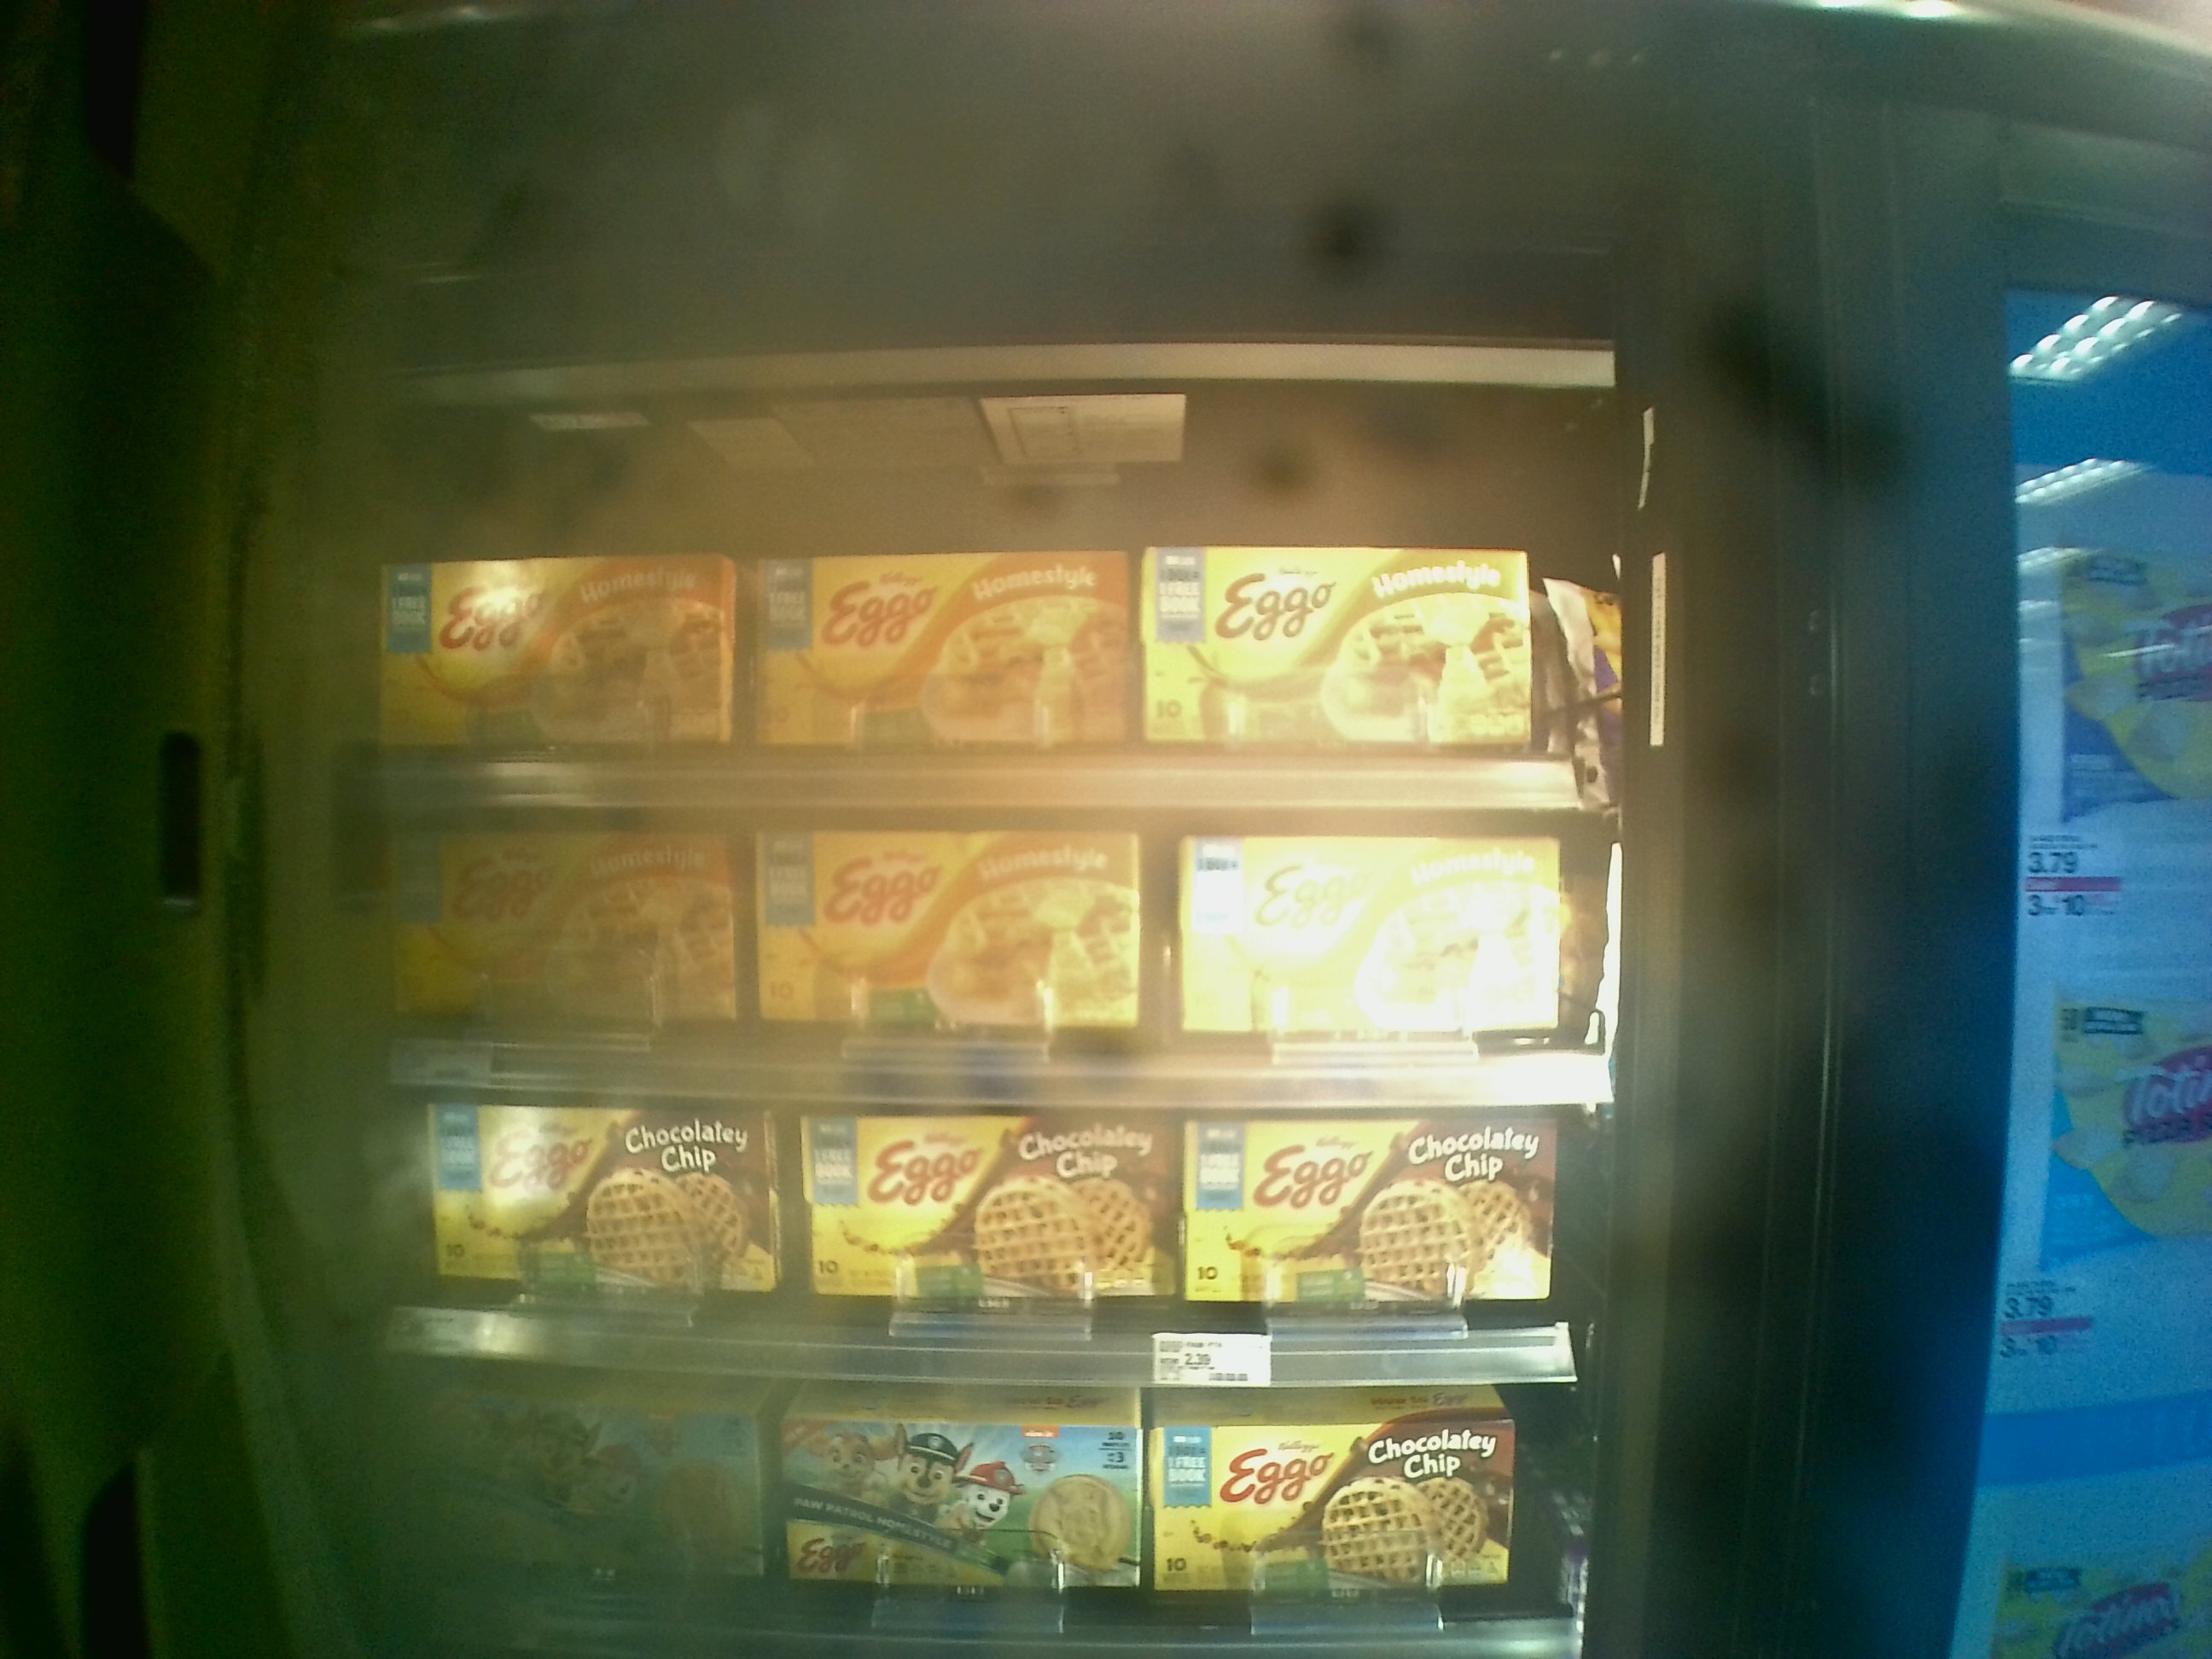frozen-food-shelf: (361, 342, 1615, 819), (371, 798, 1609, 1098), (371, 1082, 1590, 1382)
